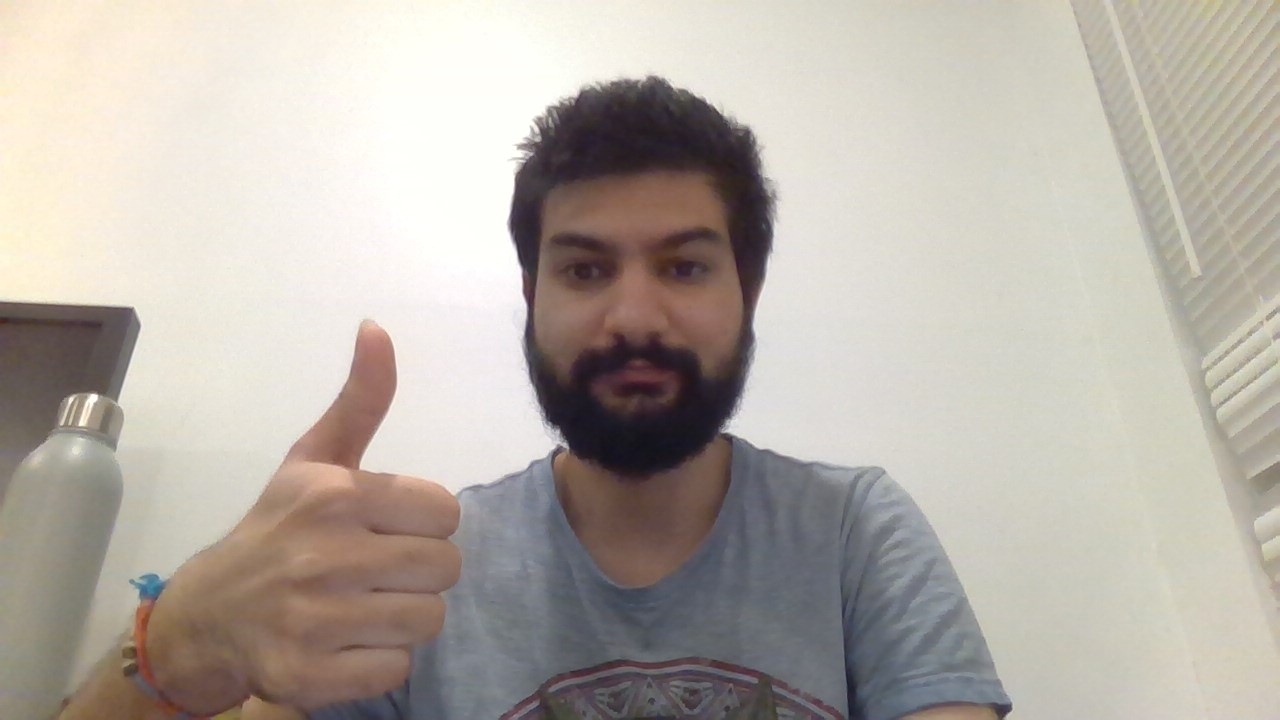up: (234, 311, 473, 706)
